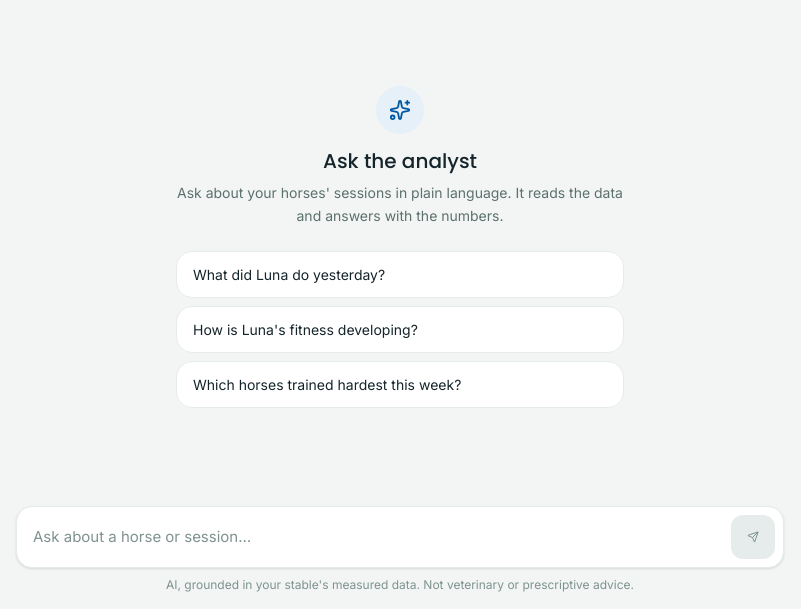
Test case: AnalystChat › sends a question and renders the analyst reply (mocked fetch)
The width and height of the screenshot is (801, 609).
Click the button "What did Luna do yesterday?".
click(289, 274)  # box [176,251,624,298]
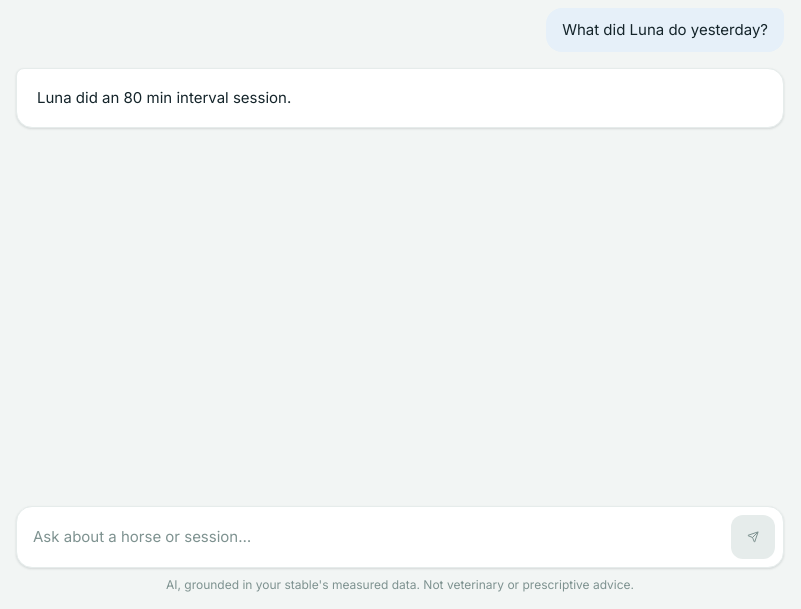
Expected: the text "Luna did an 80 min interval session." is shown, [37,88,291,107]
